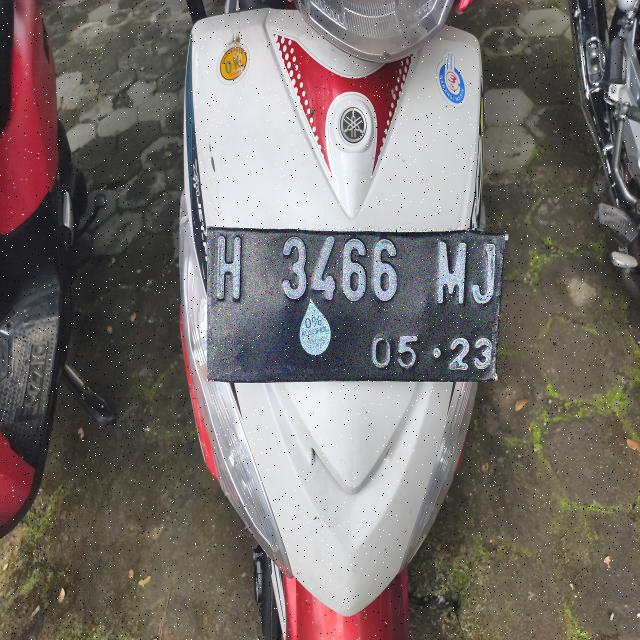plate: (207, 228, 505, 381)
